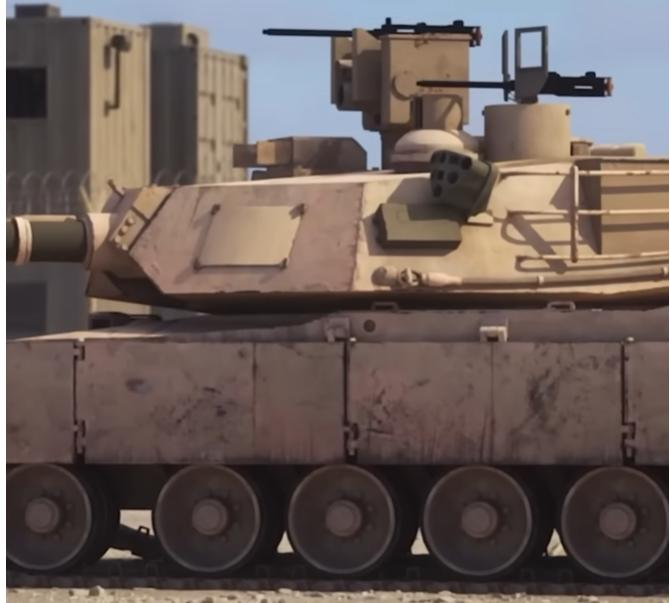MIL_SPG: (8, 22, 670, 579)
